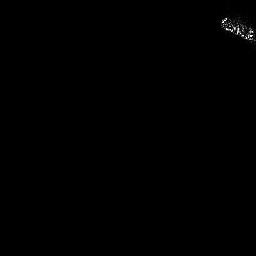ship: (217, 13, 256, 47)
